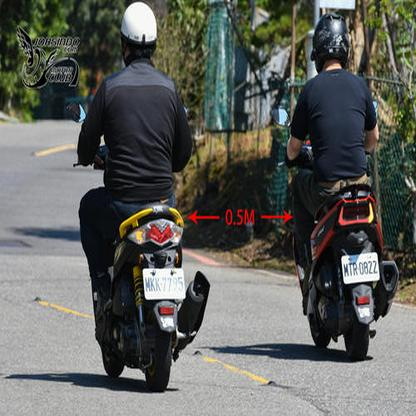target: (71, 2, 211, 394), (277, 13, 400, 357)
